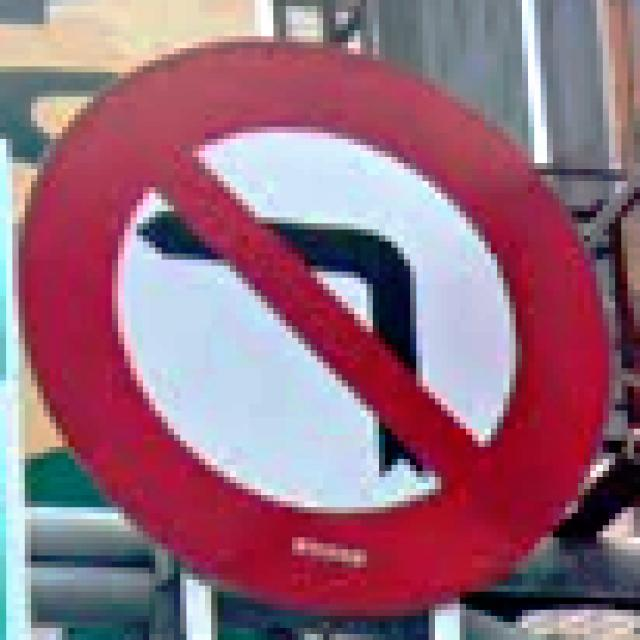noturnleft: (13, 30, 615, 616)
